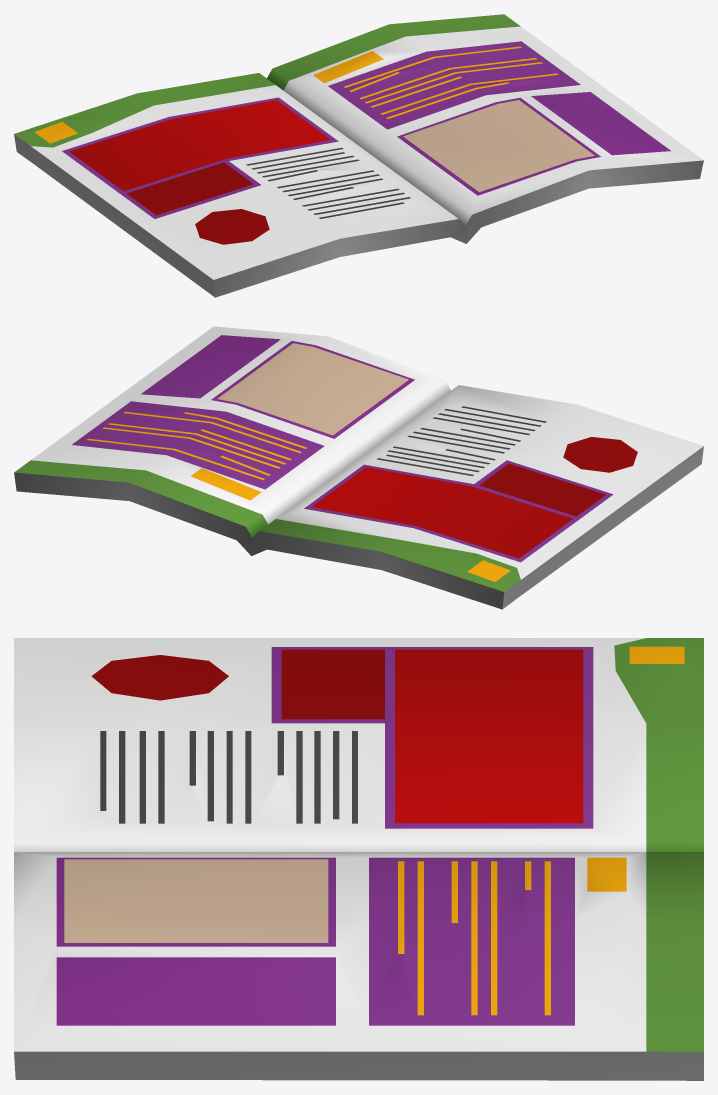
Rendered from CR_ScienceBook_open.FBX.
3 renders of one model, top to bottom at view 1: azimuth 30°, elevation 25°; view 2: azimuth 150°, elevation 25°; view 3: azimuth 270°, elevation 25°, orthographic. The views are drawn at different scales.
Parts seen in each view (by area): view 1: CR_ScienceBook_open; view 2: CR_ScienceBook_open; view 3: CR_ScienceBook_open.
Part boxes in pixels (left/top/right/bottom): CR_ScienceBook_open: left=14, top=14, right=703, bottom=297; CR_ScienceBook_open: left=14, top=326, right=703, bottom=609; CR_ScienceBook_open: left=14, top=638, right=703, bottom=1080.
Bounding box in the file's own units: 33.32 × 2.85 × 23.5.
